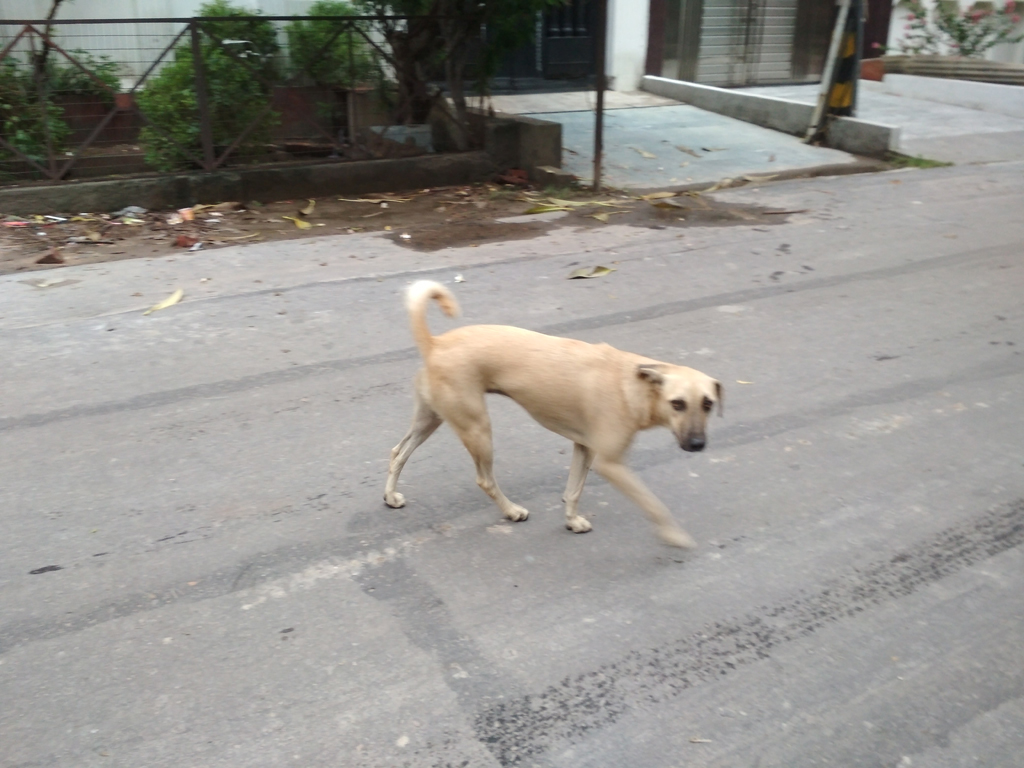dog: (384, 279, 727, 548)
